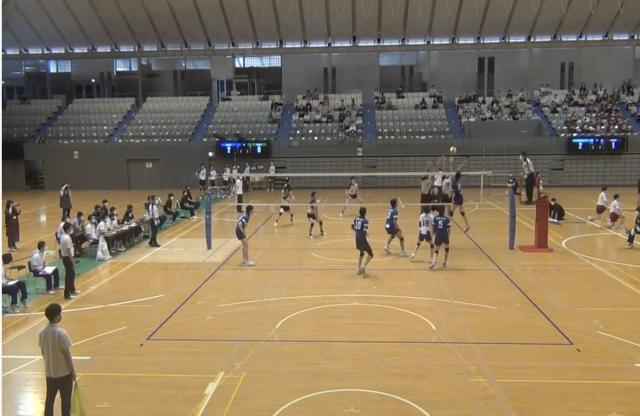spike: (448, 152, 475, 236)
